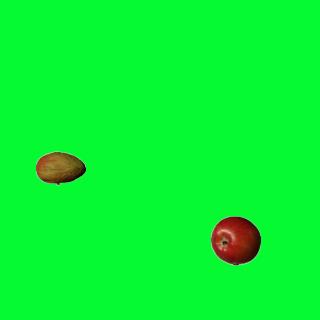Apple Braeburn: (210, 215, 260, 265)
Papaya: (35, 143, 85, 193)
